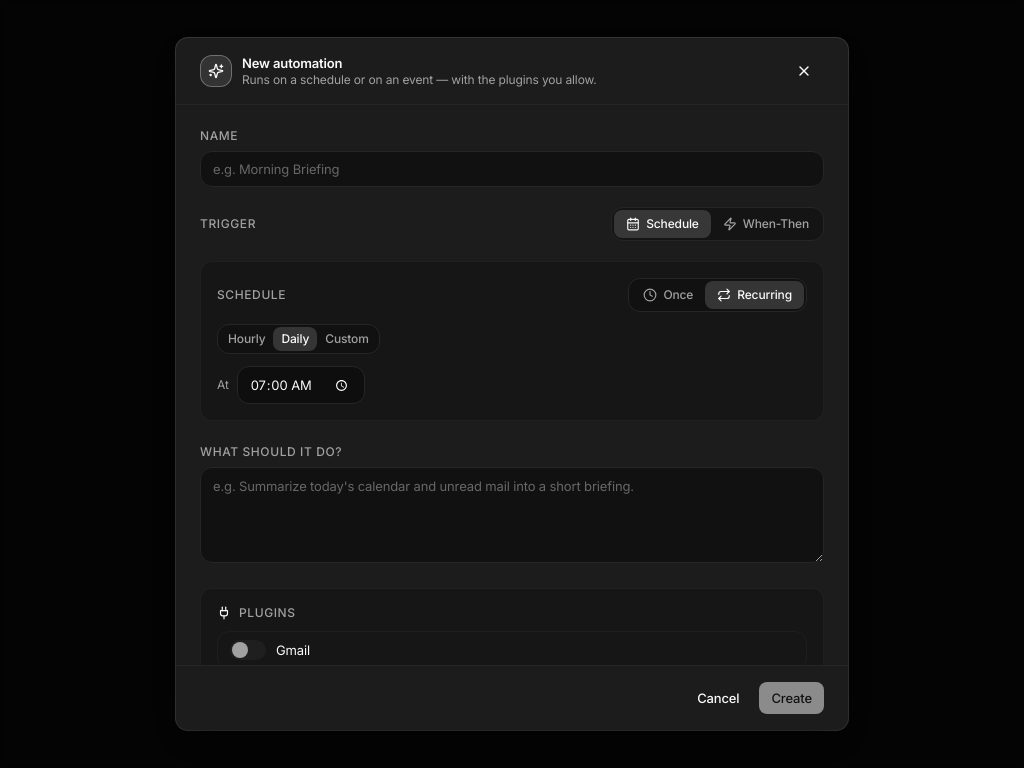
Test: TaskCreateDialog › disables submit until name and prompt are filled
Expected: the text "Gmail" is shown, [276,641,310,659]
Expected: the button "Create" is disabled, [759,682,824,714]
Type "X" into the field at (512, 169), box [200,151,824,187]
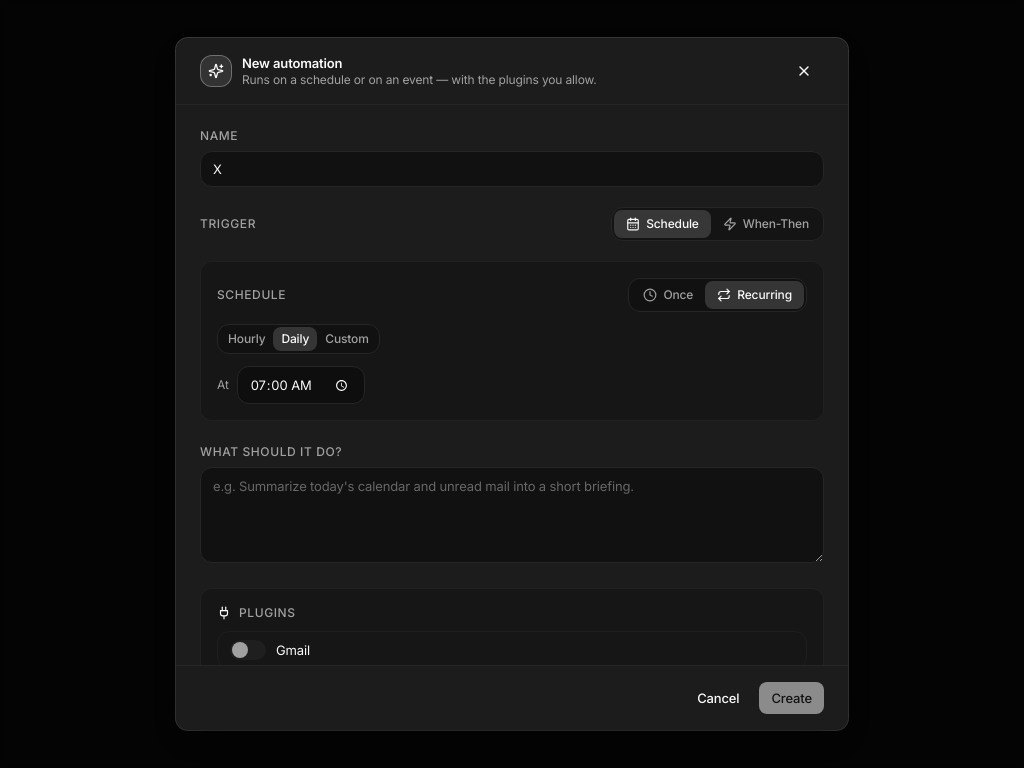
Replace the text in the text box with "Y" at (512, 515), box [200,467,824,563]
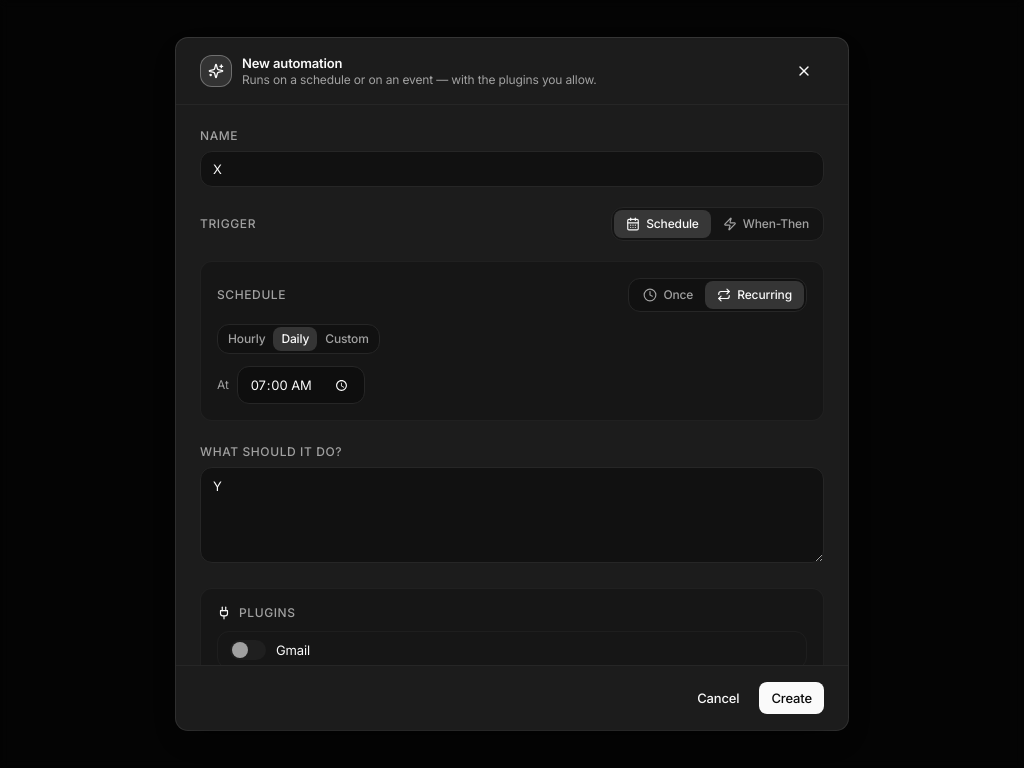
Expected: the button "Create" is enabled, [759,682,824,714]
